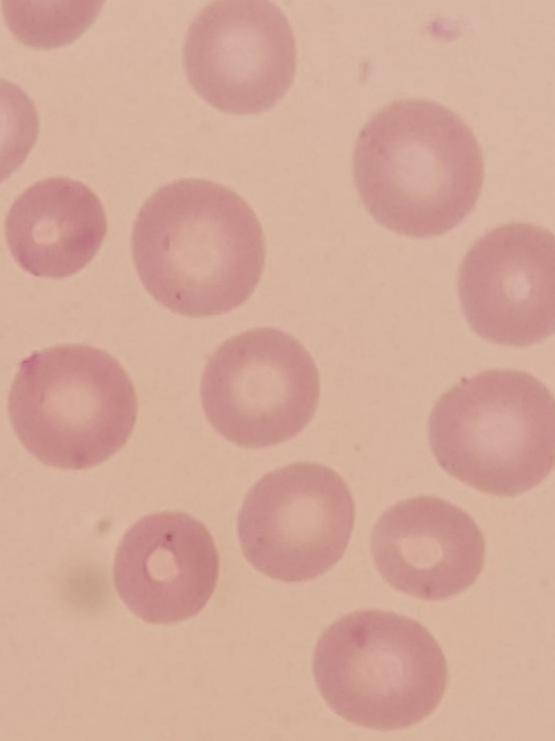Uninfected: (348, 97, 478, 238), (134, 181, 265, 313), (10, 345, 134, 472), (314, 607, 443, 729), (428, 373, 555, 494), (200, 329, 317, 448), (240, 469, 353, 586), (184, 0, 295, 116), (370, 497, 483, 601), (458, 223, 555, 344), (118, 513, 215, 625), (4, 177, 107, 278)
